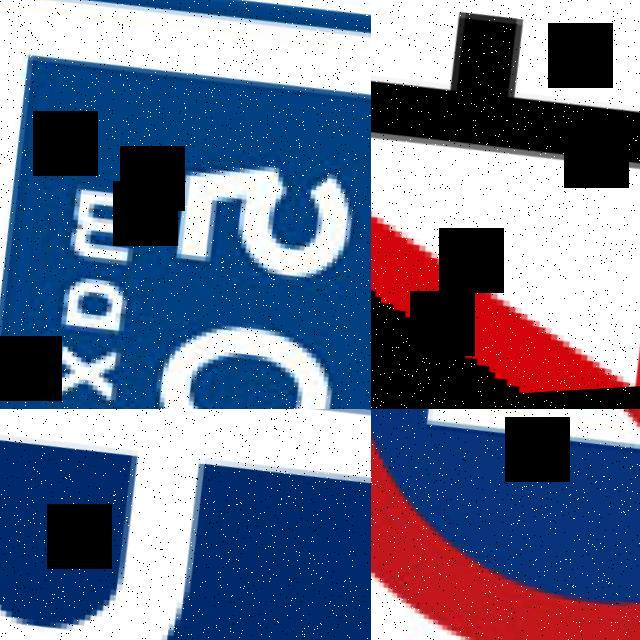102: (0, 0, 371, 409)
28: (371, 409, 640, 640)
Parking: (0, 409, 371, 640)
Side road junction: (371, 0, 640, 409)
